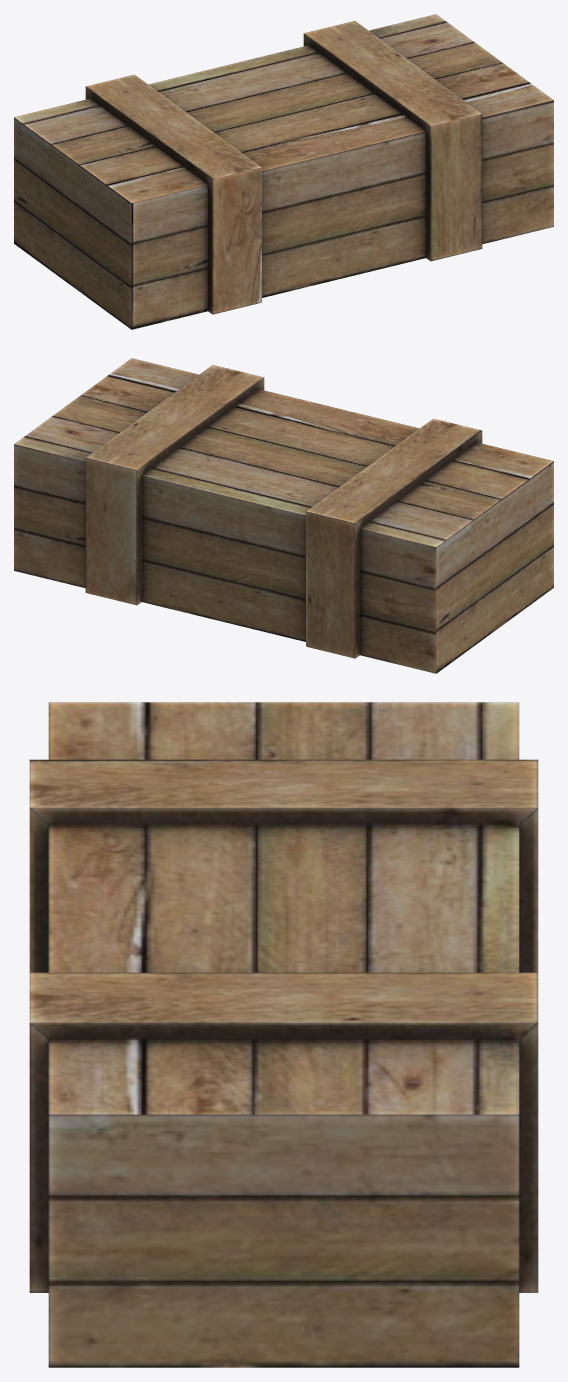
File: sweethome3d-blendswap-cc-0-box.glb
3 renders of one model, top to bottom at view 1: azimuth 30°, elevation 25°; view 2: azimuth 150°, elevation 25°; view 3: azimuth 270°, elevation 25°, orthographic. The views are drawn at different scales.
Visible parts, largest first — view 1: amobox_Cube.001; view 2: amobox_Cube.001; view 3: amobox_Cube.001.
Boxes of the visible parts, bbox=[...] form: amobox_Cube.001: bbox=[14, 14, 553, 329]; amobox_Cube.001: bbox=[14, 358, 553, 673]; amobox_Cube.001: bbox=[29, 702, 538, 1367].
Bounding box in the file's own units: 99.99 × 30.57 × 52.13.
1 material, 1 textured.
